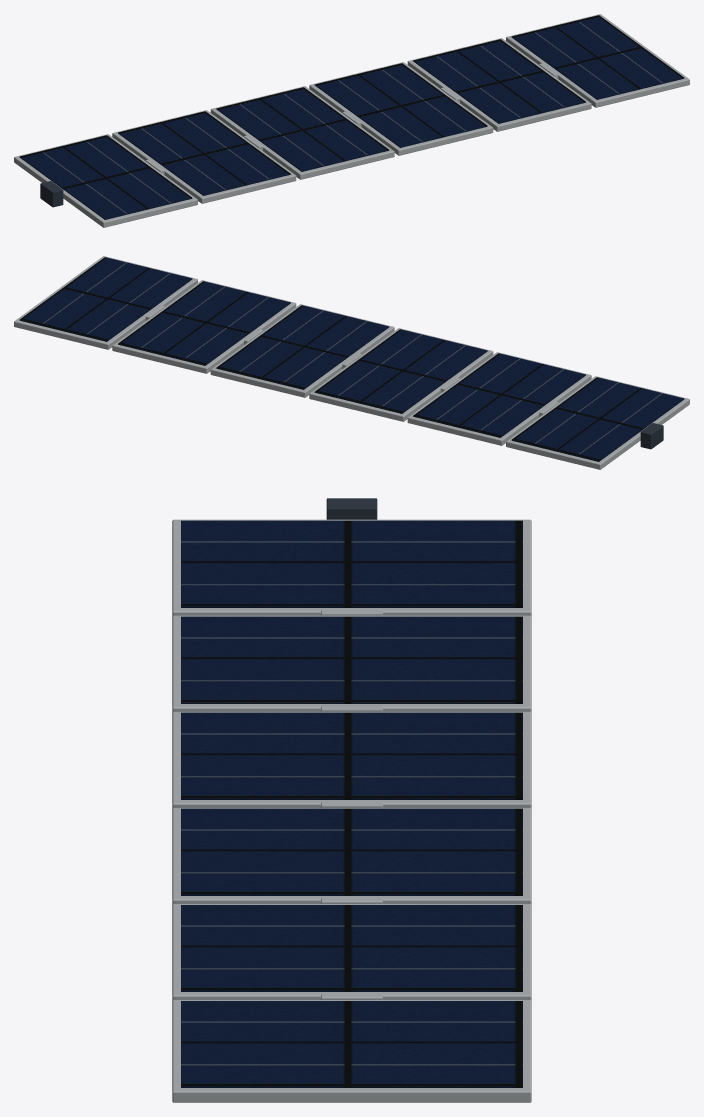
File: large_solar_array.glb
The picture shows the model from 3 angles, top to bottom: view 1: azimuth 30°, elevation 25°; view 2: azimuth 150°, elevation 25°; view 3: azimuth 270°, elevation 25°; orthographic projection. The views are drawn at different scales.
Visible parts, largest first — view 1: Cell_Surface.008, Cell_Surface.011, Cell_Surface.006, Cell_Surface.009, Cell_Surface.010, Cell_Surface.007, Panel_Frame.006, Panel_Frame.010, Panel_Frame.007, Panel_Frame.008, Panel_Frame.009, Panel_Frame.011 (+1 smaller); view 2: Cell_Surface.008, Cell_Surface.011, Cell_Surface.006, Cell_Surface.009, Cell_Surface.010, Cell_Surface.007, Panel_Frame.006, Panel_Frame.010, Panel_Frame.007, Panel_Frame.008, Panel_Frame.009, Panel_Frame.011 (+1 smaller); view 3: Cell_Surface.006, Cell_Surface.007, Cell_Surface.008, Cell_Surface.009, Cell_Surface.010, Cell_Surface.011, Panel_Frame.011, Panel_Frame.006, Panel_Frame.007, Panel_Frame.008, Panel_Frame.009, Panel_Frame.010 (+1 smaller).
Boxes of the visible parts, box(x1,y1,x2,y2) form: Cell_Surface.008: box(216, 87, 389, 171); Cell_Surface.011: box(511, 15, 684, 99); Cell_Surface.006: box(19, 135, 192, 219); Cell_Surface.009: box(314, 63, 487, 147); Cell_Surface.010: box(413, 39, 585, 123); Cell_Surface.007: box(118, 111, 290, 195); Panel_Frame.006: box(14, 134, 197, 227); Panel_Frame.010: box(407, 38, 591, 131); Panel_Frame.007: box(112, 110, 296, 203); Panel_Frame.008: box(210, 86, 394, 179); Panel_Frame.009: box(309, 62, 493, 155); Panel_Frame.011: box(506, 14, 689, 107); Cell_Surface.008: box(314, 329, 487, 413); Cell_Surface.011: box(19, 257, 192, 341); Cell_Surface.006: box(511, 377, 684, 461); Cell_Surface.009: box(216, 305, 389, 389); Cell_Surface.010: box(118, 281, 290, 365); Cell_Surface.007: box(413, 353, 585, 437); Panel_Frame.006: box(506, 376, 689, 469); Panel_Frame.010: box(112, 280, 296, 373); Panel_Frame.007: box(407, 352, 591, 445); Panel_Frame.008: box(309, 328, 493, 421); Panel_Frame.009: box(210, 304, 394, 397); Panel_Frame.011: box(14, 256, 197, 349); Cell_Surface.006: box(181, 520, 522, 607); Cell_Surface.007: box(181, 616, 522, 703); Cell_Surface.008: box(181, 712, 522, 799); Cell_Surface.009: box(181, 808, 522, 895); Cell_Surface.010: box(181, 905, 522, 991); Cell_Surface.011: box(181, 1001, 522, 1087); Panel_Frame.011: box(172, 1000, 531, 1102); Panel_Frame.006: box(172, 519, 531, 616); Panel_Frame.007: box(172, 615, 531, 712); Panel_Frame.008: box(172, 711, 531, 808); Panel_Frame.009: box(172, 808, 531, 904); Panel_Frame.010: box(172, 904, 531, 1000).
Size of the model in its own units: 4.93 by 0.12 by 1.28.
3 materials, 1 textured.
